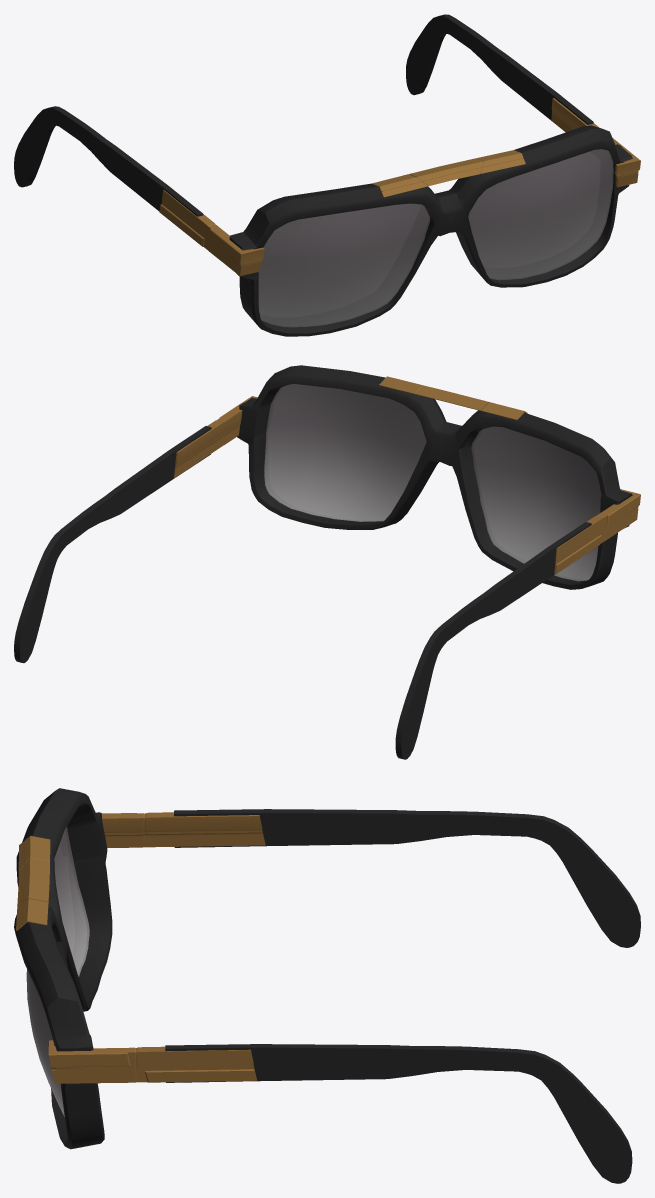
The picture shows the model from 3 angles, top to bottom: view 1: azimuth 30°, elevation 25°; view 2: azimuth 150°, elevation 25°; view 3: azimuth 270°, elevation 25°; orthographic projection. The views are drawn at different scales.
Visible parts, largest first — view 1: Lens_3, Frame_0, Temples_1, Bridge_2; view 2: Lens_3, Frame_0, Temples_1, Bridge_2; view 3: Temples_1, Frame_0, Lens_3, Bridge_2.
Boxes of the visible parts, x1,y1,x2,y2 form: Lens_3: (258, 149, 613, 327); Frame_0: (229, 125, 632, 336); Temples_1: (14, 14, 640, 276); Bridge_2: (372, 150, 525, 197); Lens_3: (264, 384, 601, 581); Frame_0: (237, 365, 632, 589); Temples_1: (14, 396, 640, 759); Bridge_2: (379, 376, 527, 420); Temples_1: (48, 809, 640, 1183); Frame_0: (14, 788, 112, 1149); Lens_3: (26, 826, 89, 1116); Bridge_2: (16, 836, 50, 930).
Size of the model in its own units: 1.2 by 0.4262 by 1.31.
3 materials, 1 textured.
